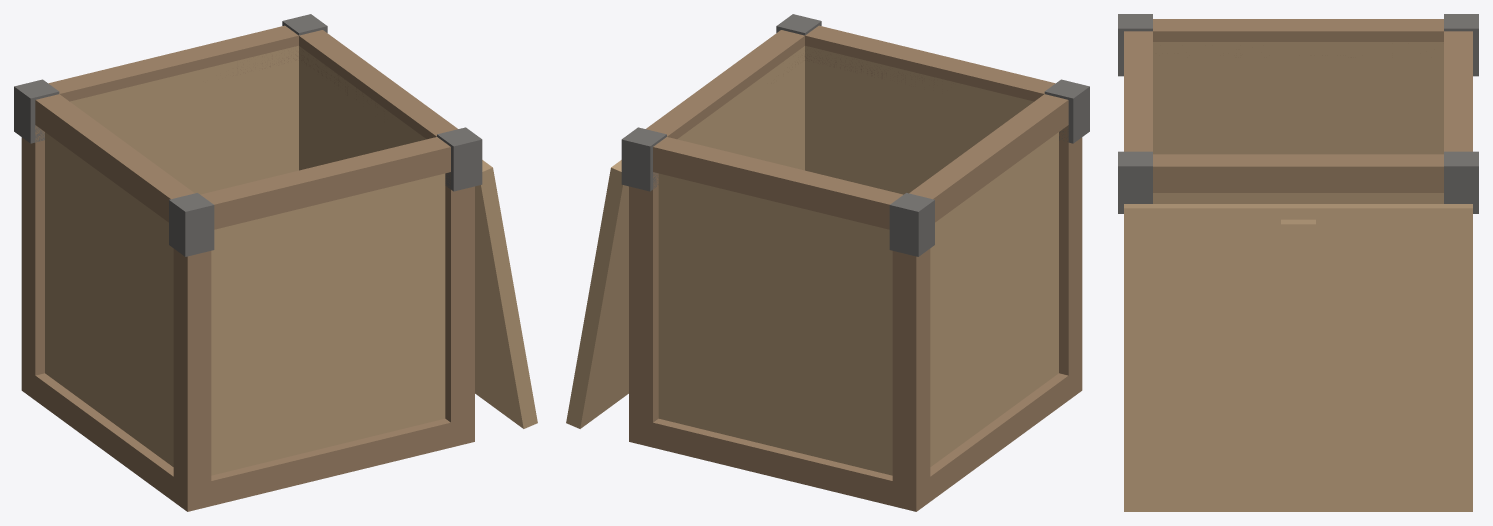
File: prop-crate-wood-open.fbx
3 views of the same model, side by side, from view 1: azimuth 30°, elevation 25°; view 2: azimuth 150°, elevation 25°; view 3: azimuth 270°, elevation 25° (orthographic). The views are drawn at different scales.
Visible parts, largest first — view 1: prop-crate-wood-open; view 2: prop-crate-wood-open; view 3: prop-crate-wood-open.
Part boxes in pixels (bbox=[...]): prop-crate-wood-open: bbox=[14, 14, 537, 511]; prop-crate-wood-open: bbox=[566, 14, 1089, 511]; prop-crate-wood-open: bbox=[1118, 14, 1478, 511].
Bounding box in the file's own units: 0.7691 × 0.605 × 0.62.
